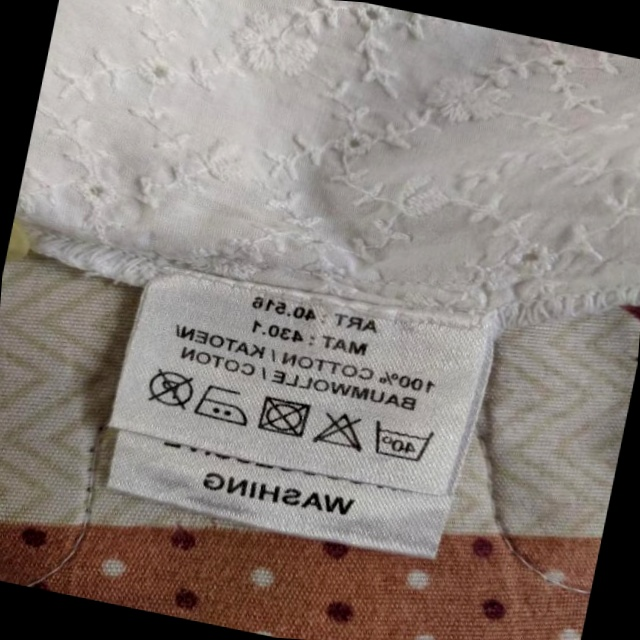40C: (367, 415, 435, 467)
DN_bleach: (312, 404, 373, 456)
DN_dry_clean: (142, 364, 198, 413)
DN_tumble_dry: (255, 393, 315, 444)
iron_medium: (192, 381, 255, 429)
